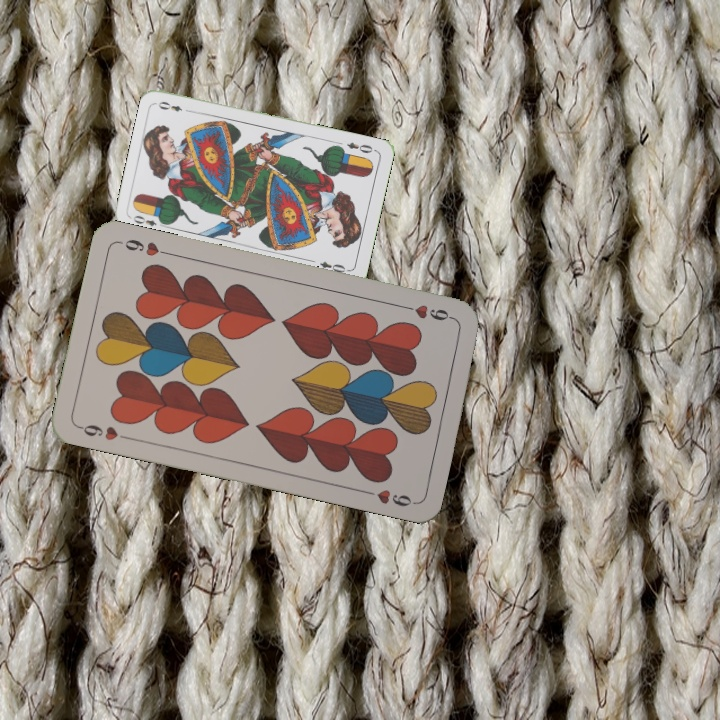EO: (129, 211, 168, 230), (343, 138, 379, 156)
H9: (399, 300, 457, 324), (74, 420, 133, 443)
